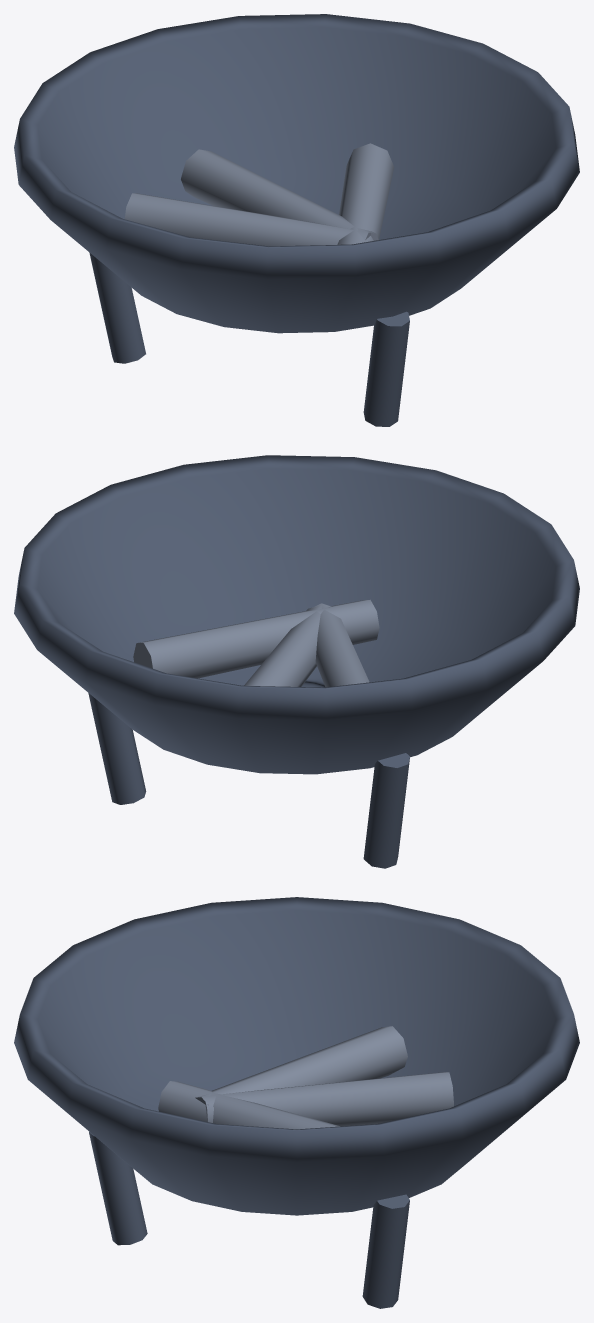
Rendered from 庭院火盆-lite.glb.
3 views of the same model, one above another, from view 1: azimuth 30°, elevation 25°; view 2: azimuth 150°, elevation 25°; view 3: azimuth 270°, elevation 25° (orthographic).
Visible parts, largest first — view 1: garden-firepit; view 2: garden-firepit; view 3: garden-firepit.
Boxes of the visible parts, bbox=[...] form: garden-firepit: bbox=[14, 14, 579, 426]; garden-firepit: bbox=[14, 455, 579, 868]; garden-firepit: bbox=[14, 897, 579, 1308].
Size of the model in its own units: 0.95 by 0.42 by 0.95.
